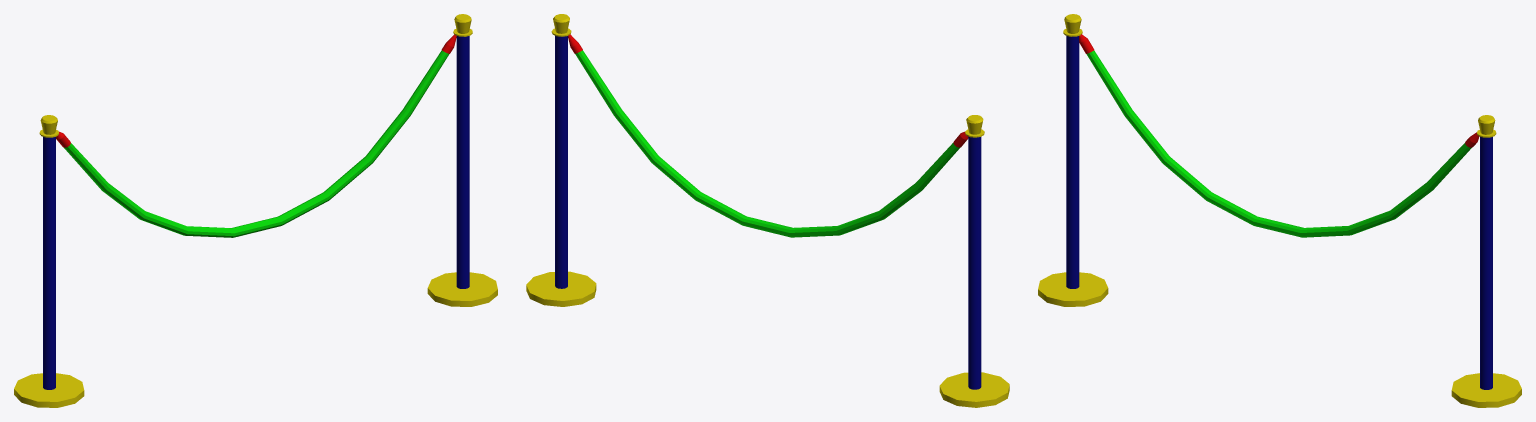
File: almfombra.fbx
The picture shows the model from 3 angles, left to right: view 1: azimuth 30°, elevation 25°; view 2: azimuth 150°, elevation 25°; view 3: azimuth 330°, elevation 25°; orthographic projection.
Visible parts, largest first — view 1: BARRERA; view 2: BARRERA; view 3: BARRERA.
Boxes of the visible parts, x1,y1,x2,y2 form: BARRERA: (14,14,497,407); BARRERA: (526,14,1009,407); BARRERA: (1038,14,1521,407).
Size of the model in its own units: 3.65 by 2.02 by 0.4637.
